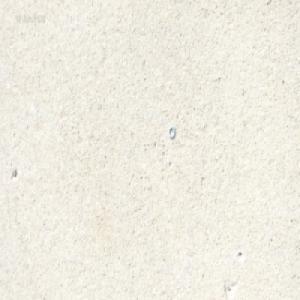Washer: (167, 124, 174, 138)
